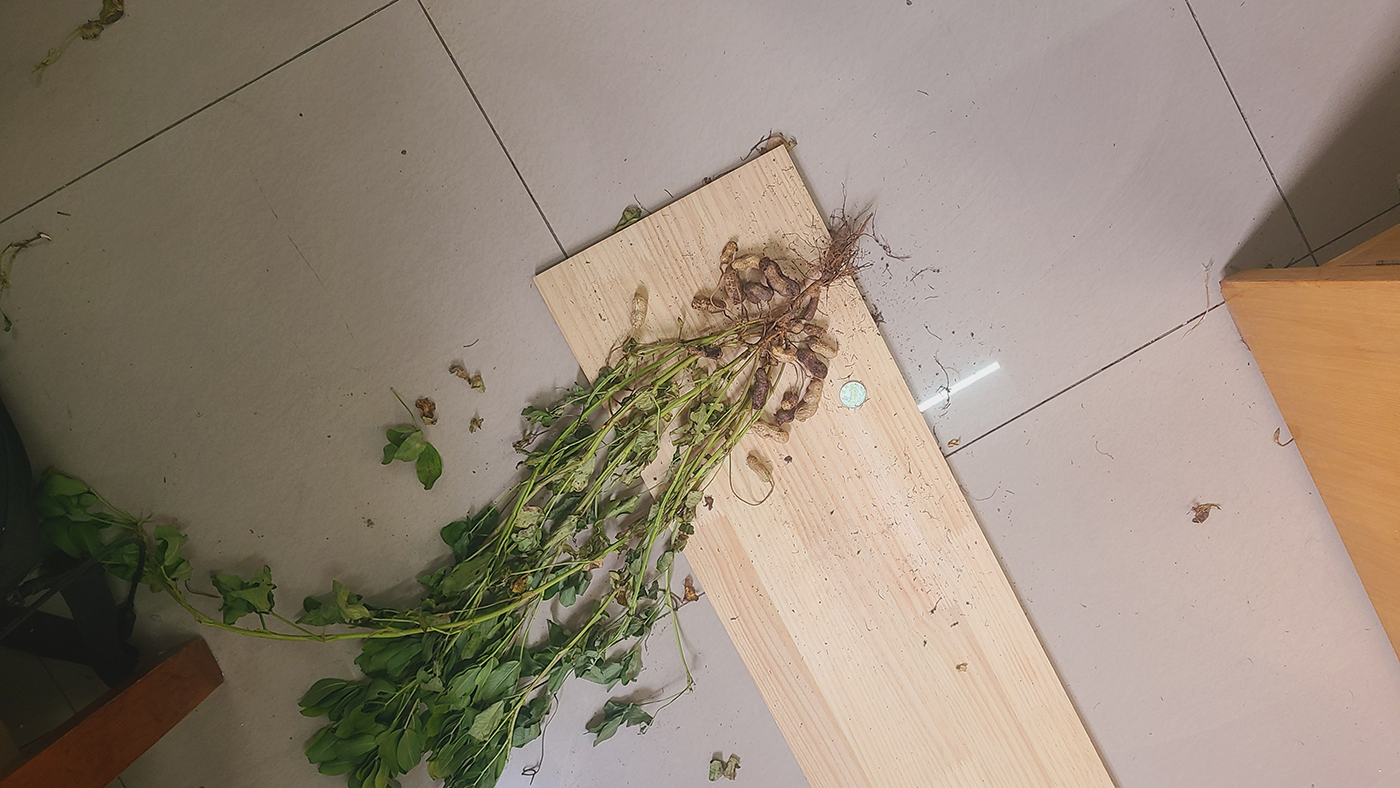h: (753, 420, 789, 443), (724, 269, 745, 304), (746, 454, 771, 483), (691, 295, 727, 314), (630, 293, 648, 329), (807, 336, 836, 358), (793, 399, 819, 422), (803, 378, 824, 404), (732, 253, 759, 270), (720, 241, 737, 264), (803, 323, 828, 338), (781, 391, 799, 411), (789, 319, 804, 334)
l: (758, 256, 800, 297), (797, 348, 828, 379), (752, 367, 769, 409), (744, 282, 774, 304), (802, 296, 819, 321), (775, 409, 795, 424)
